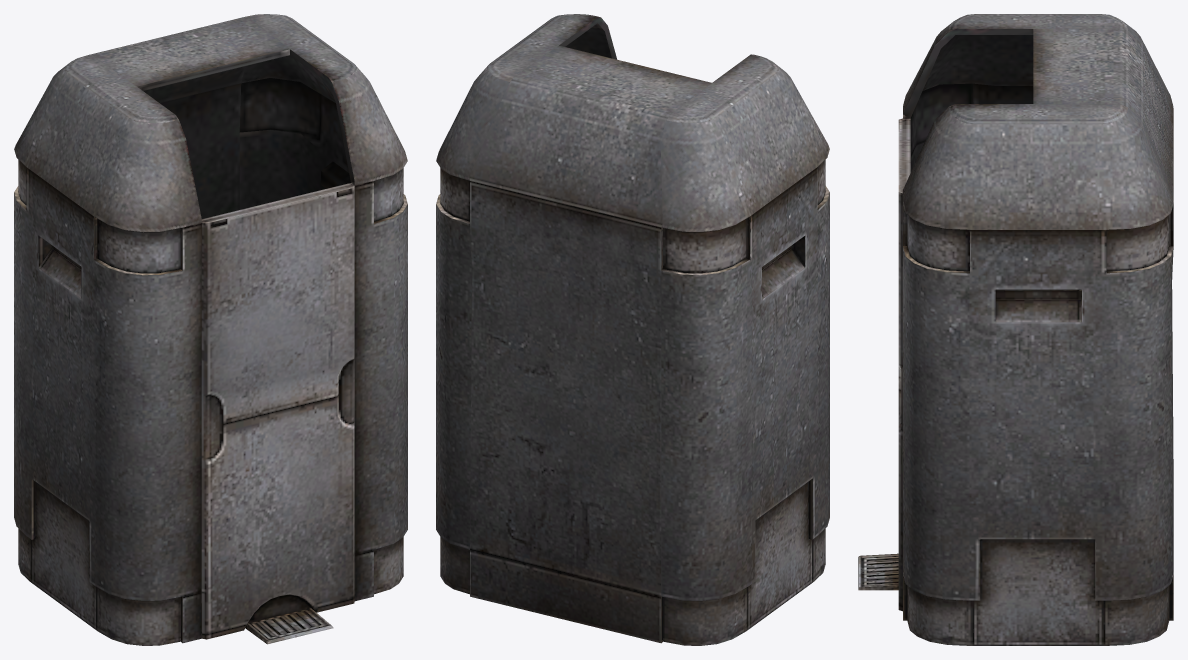
File: trash_can_theta.DAE
3 views of the same model, side by side, from view 1: azimuth 30°, elevation 25°; view 2: azimuth 150°, elevation 25°; view 3: azimuth 270°, elevation 25° (orthographic).
Parts seen in each view (by area): view 1: trash_can_theta, trash_can_theta2; view 2: trash_can_theta, trash_can_theta2; view 3: trash_can_theta, trash_can_theta2.
Boxes of the visible parts, bbox=[...] form: trash_can_theta: bbox=[14, 14, 407, 645]; trash_can_theta2: bbox=[143, 55, 350, 218]; trash_can_theta: bbox=[436, 14, 829, 645]; trash_can_theta2: bbox=[565, 23, 611, 58]; trash_can_theta: bbox=[858, 14, 1173, 645]; trash_can_theta2: bbox=[910, 35, 1033, 172].
Size of the model in its own units: 0.626 by 1 by 0.5638.
